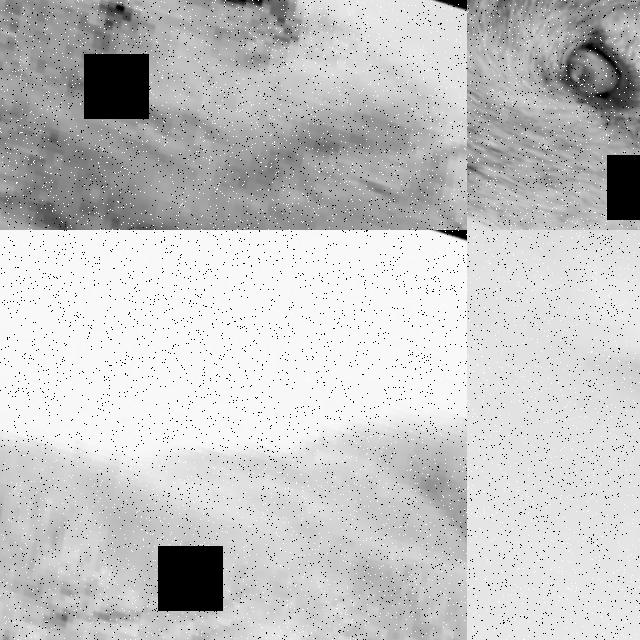dog: (0, 230, 467, 640), (467, 230, 640, 640)
wolf: (0, 0, 467, 230), (467, 0, 640, 230)
